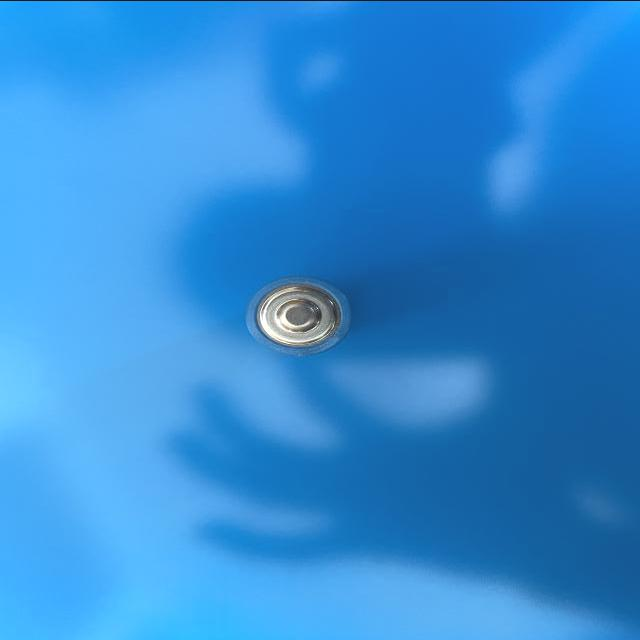AA: (245, 274, 356, 358)
